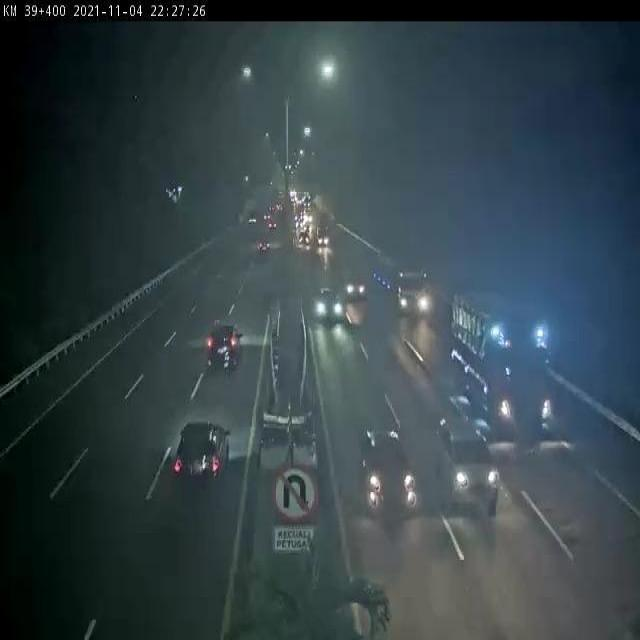car: (429, 393, 501, 512), (361, 426, 417, 510), (171, 424, 232, 480), (206, 321, 243, 367), (313, 283, 343, 320), (342, 272, 365, 297)
truck-xl-: (453, 292, 557, 436), (371, 255, 430, 317)
